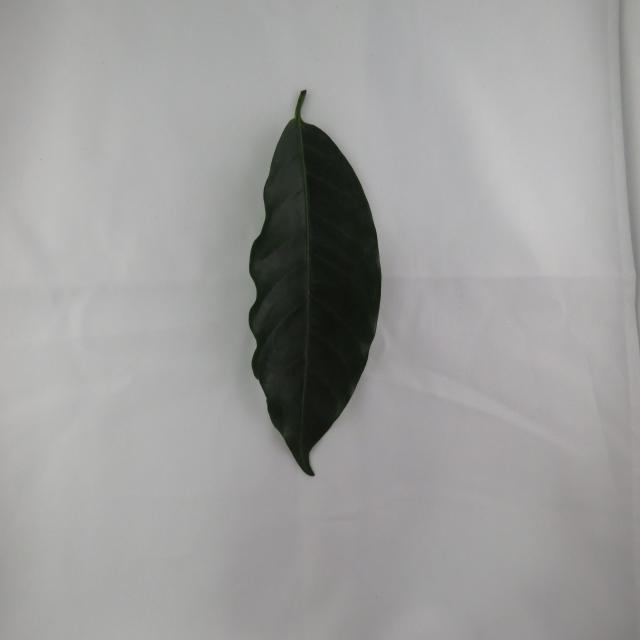DeficienciaNutricional-Calcio: (249, 90, 381, 475)
